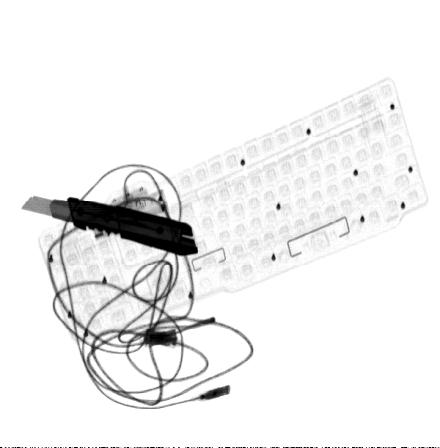Knife: (19, 195, 199, 257)
